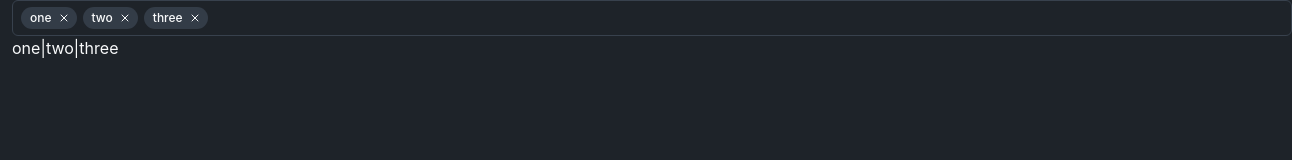
it: TagInput › removes a chip via its X button
Step 1. Click the button named "Remove tag two" → (125, 18), box [117, 10, 133, 26]
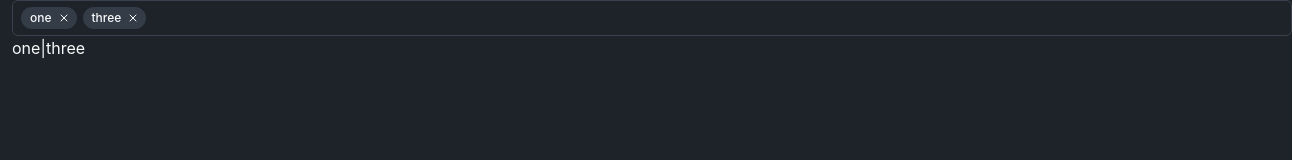
Expected: the text with test id "dump" reads "one|three", [12, 38, 85, 58]
